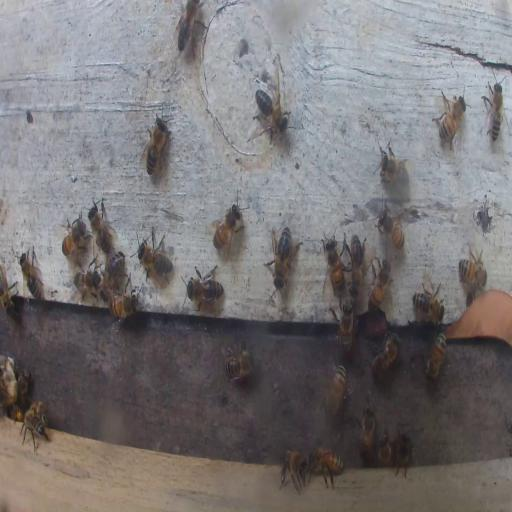bee: (266, 224, 300, 290), (433, 89, 467, 151), (182, 265, 224, 311), (212, 198, 243, 258), (137, 232, 174, 281), (258, 77, 289, 132), (307, 446, 343, 492), (144, 114, 170, 177), (88, 195, 116, 253), (375, 202, 406, 252), (483, 78, 505, 145), (378, 140, 408, 188), (413, 282, 446, 325), (18, 246, 43, 302), (176, 0, 202, 52), (280, 448, 307, 498), (222, 341, 254, 381), (323, 234, 345, 292), (370, 334, 400, 376), (325, 360, 347, 416), (459, 247, 486, 292), (61, 214, 87, 258), (22, 406, 49, 448), (425, 330, 447, 381), (369, 259, 390, 309), (394, 430, 416, 477), (347, 232, 364, 290), (0, 261, 18, 313), (337, 299, 354, 353), (359, 404, 376, 458), (108, 292, 139, 320), (75, 266, 101, 298), (102, 254, 125, 286), (376, 430, 392, 466), (18, 365, 30, 406), (8, 407, 23, 421)
